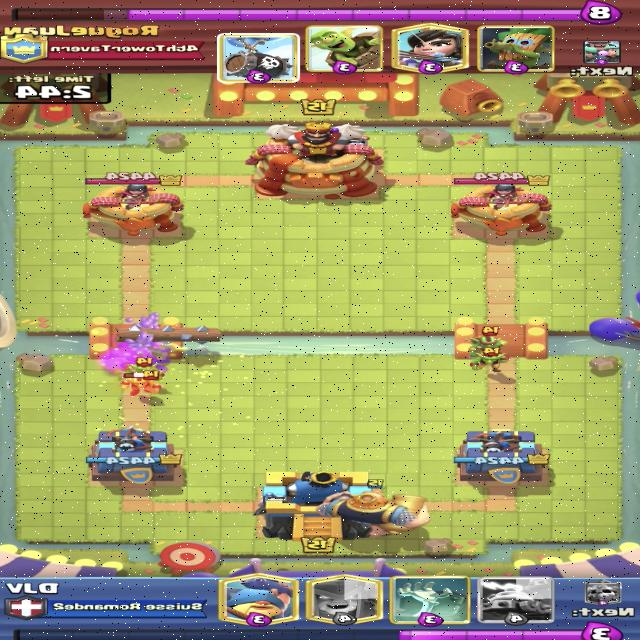Enemy-Goblin: (118, 370, 166, 396), (468, 346, 510, 374), (120, 357, 164, 380)
Enemy-SpearGoblin: (464, 326, 509, 355)
Player-GoblinDrill: (584, 42, 622, 70)
Player-Log: (110, 325, 223, 345)
Player-RoyalGiant: (321, 479, 433, 536)
